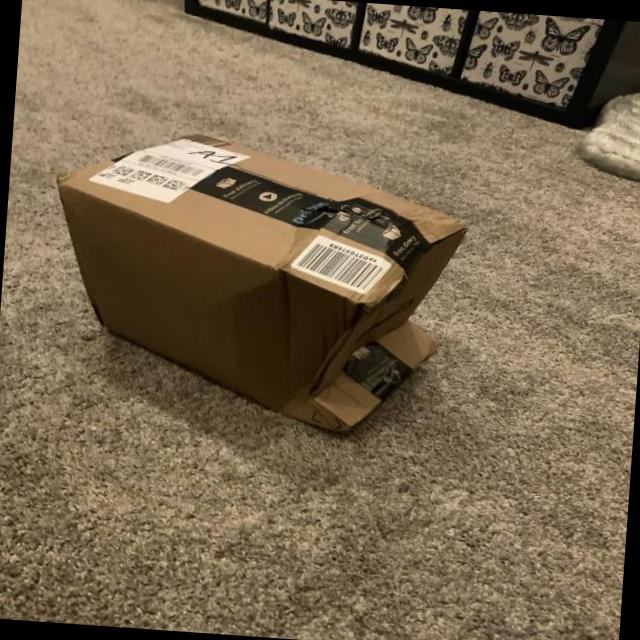crushed: (235, 200, 469, 439)
